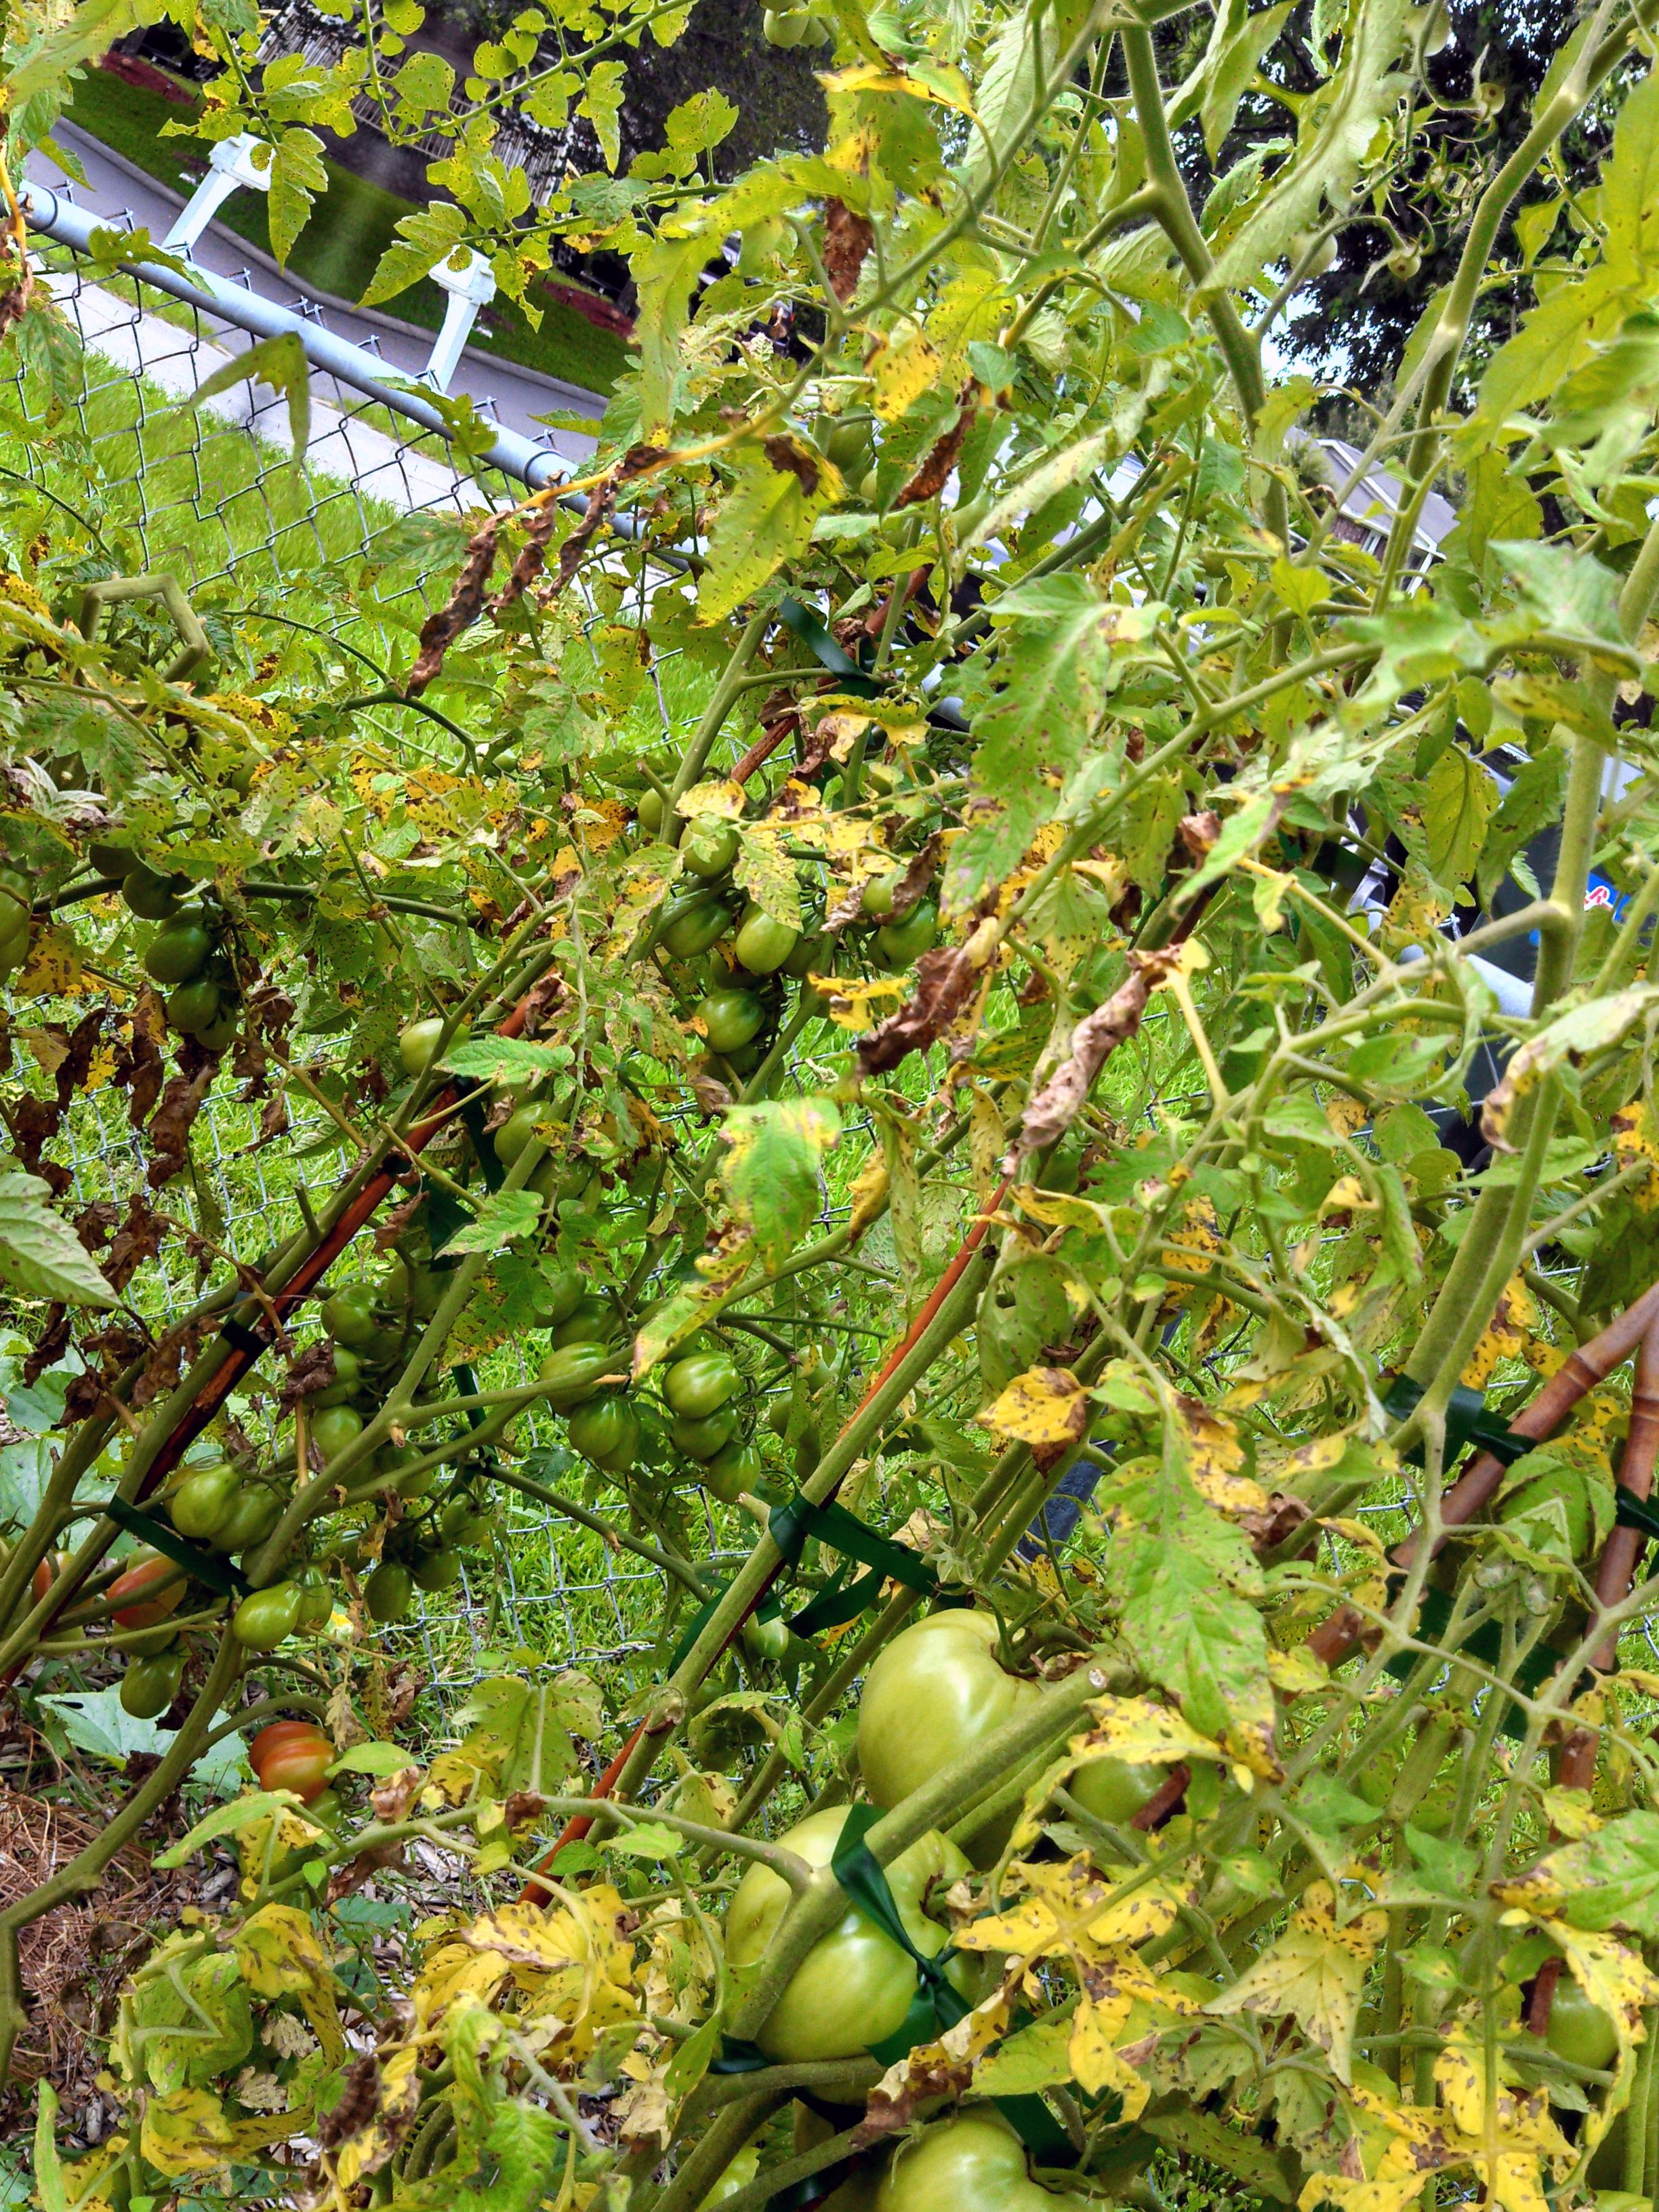Tomato Septoria leaf spot: (1006, 1414, 1401, 1799), (877, 596, 1152, 974)
